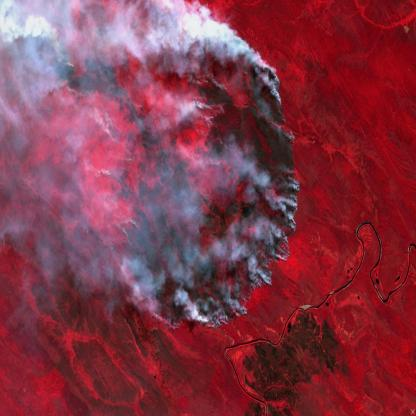fire: (44, 20, 302, 338)
